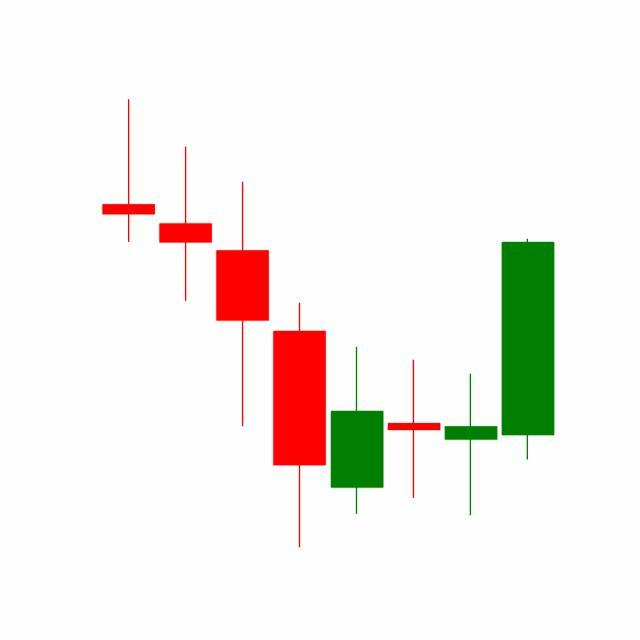Hikkake Pattern: (270, 235, 555, 549)
